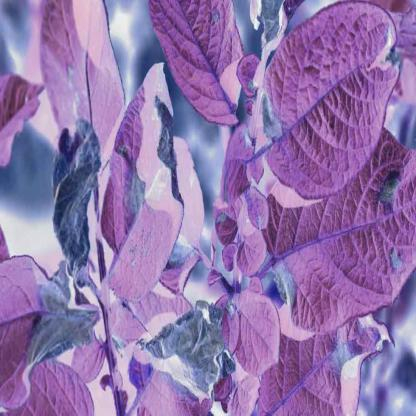Potato leaf early blight: (259, 140, 416, 329), (92, 59, 181, 310), (258, 310, 395, 415), (147, 1, 250, 121), (140, 298, 239, 415), (46, 103, 101, 294)
